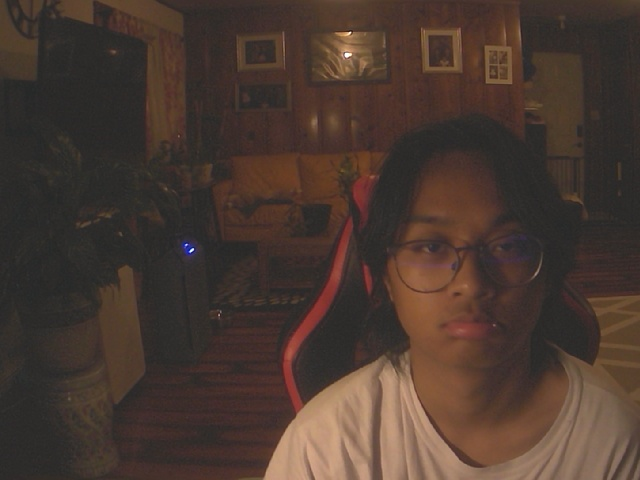sad: (360, 111, 577, 369)
